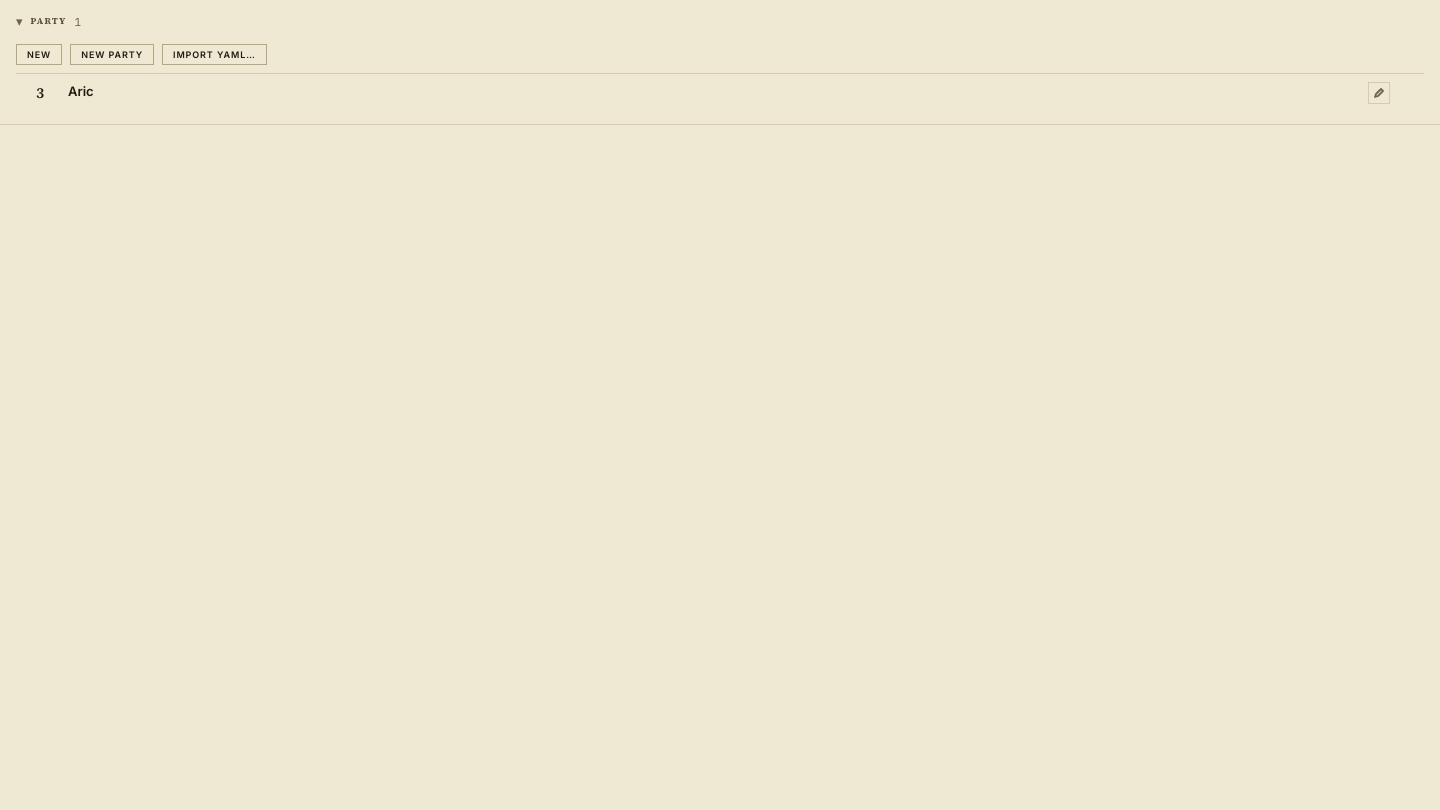
Test: PartySection — edit modal › clicking edit on an existing member opens the modal in edit mode
This screenshot has width=1440, height=810.
Click the button named "Edit Aric": click(1379, 93) [1368, 82, 1390, 104]
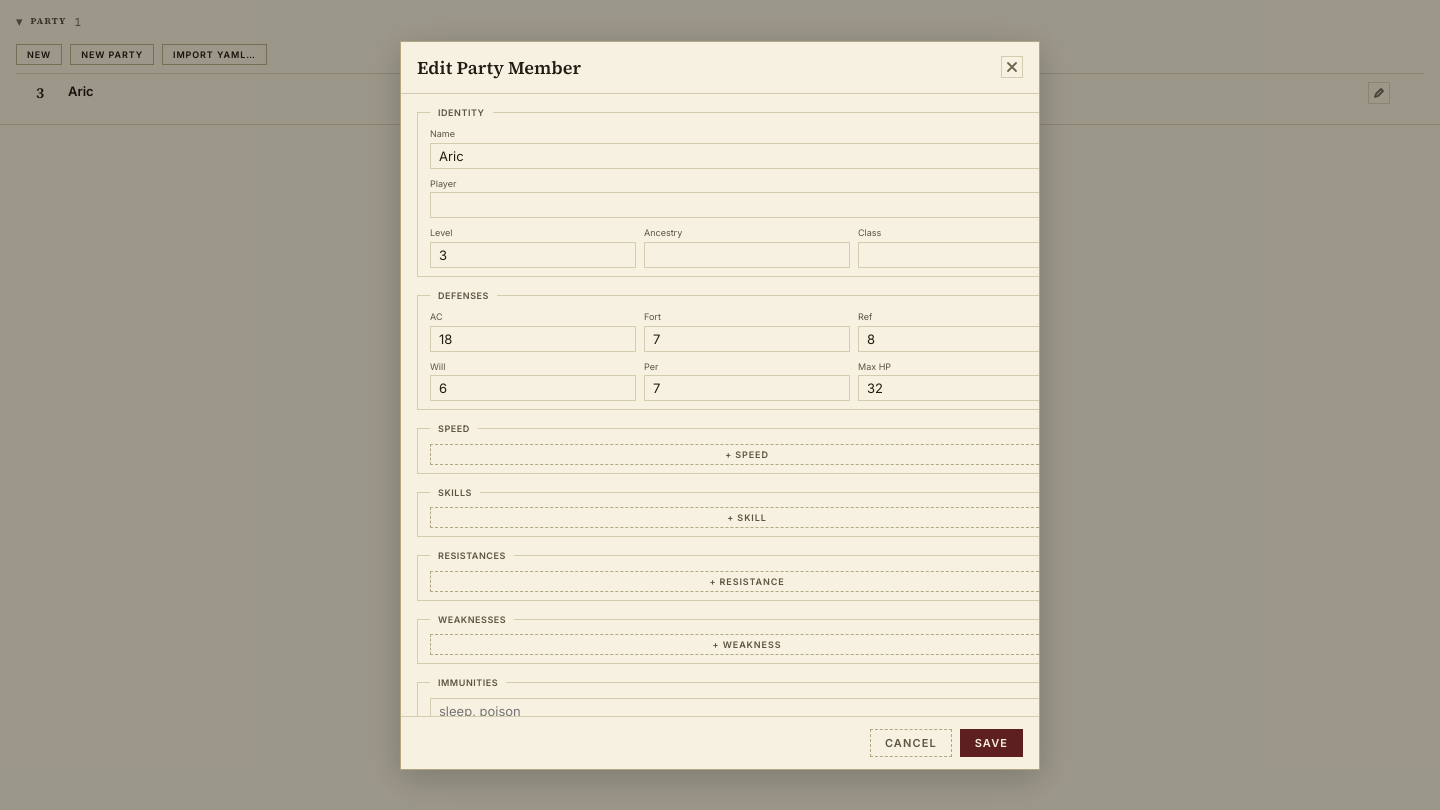
Result: the heading "Edit Party Member" is shown at [417, 54, 581, 80]
